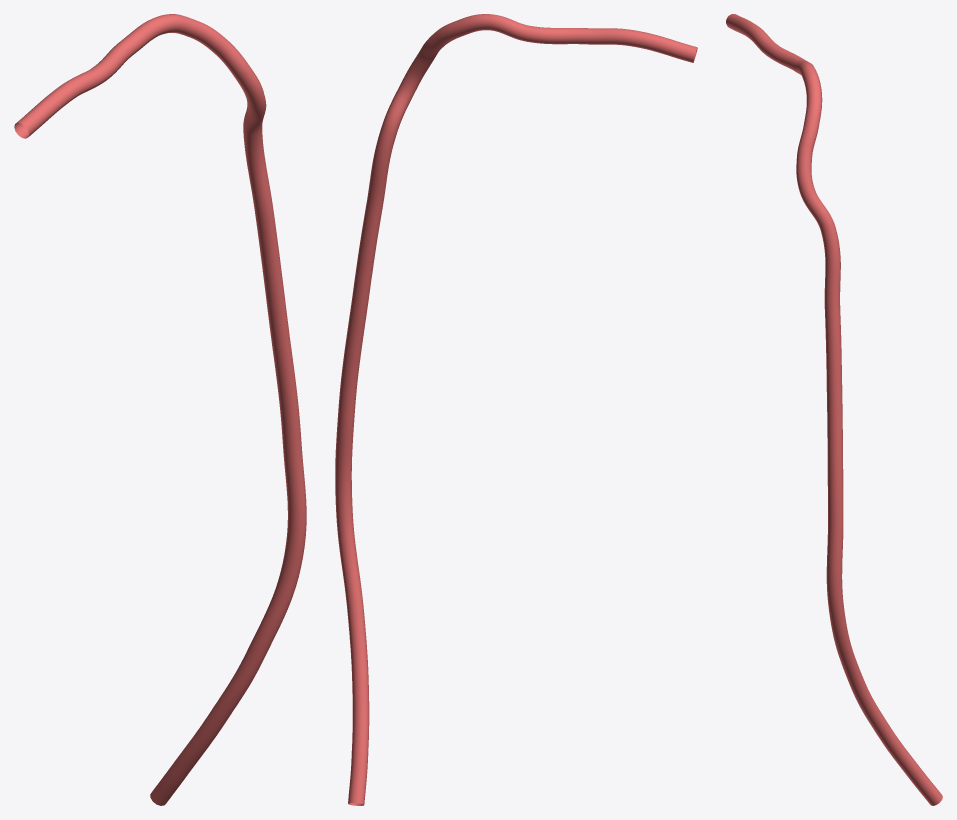
Rendered from Septal_branches_of_posterior_ethmoidal_artery.r_BezierCurve.095.glb.
3 renders of one model, left to right at view 1: azimuth 30°, elevation 25°; view 2: azimuth 150°, elevation 25°; view 3: azimuth 270°, elevation 25°, orthographic. The views are drawn at different scales.
Parts seen in each view (by area): view 1: Septal_branches_of_posterior_ethmoidal_artery.r_BezierCurve.; view 2: Septal_branches_of_posterior_ethmoidal_artery.r_BezierCurve.; view 3: Septal_branches_of_posterior_ethmoidal_artery.r_BezierCurve..
Part boxes in pixels (left/top/right/bottom): Septal_branches_of_posterior_ethmoidal_artery.r_BezierCurve.: left=14, top=14, right=306, bottom=805; Septal_branches_of_posterior_ethmoidal_artery.r_BezierCurve.: left=335, top=14, right=697, bottom=805; Septal_branches_of_posterior_ethmoidal_artery.r_BezierCurve.: left=726, top=14, right=942, bottom=805.
Size of the model in its own units: 0.0128 by 0.0302 by 0.00841.
